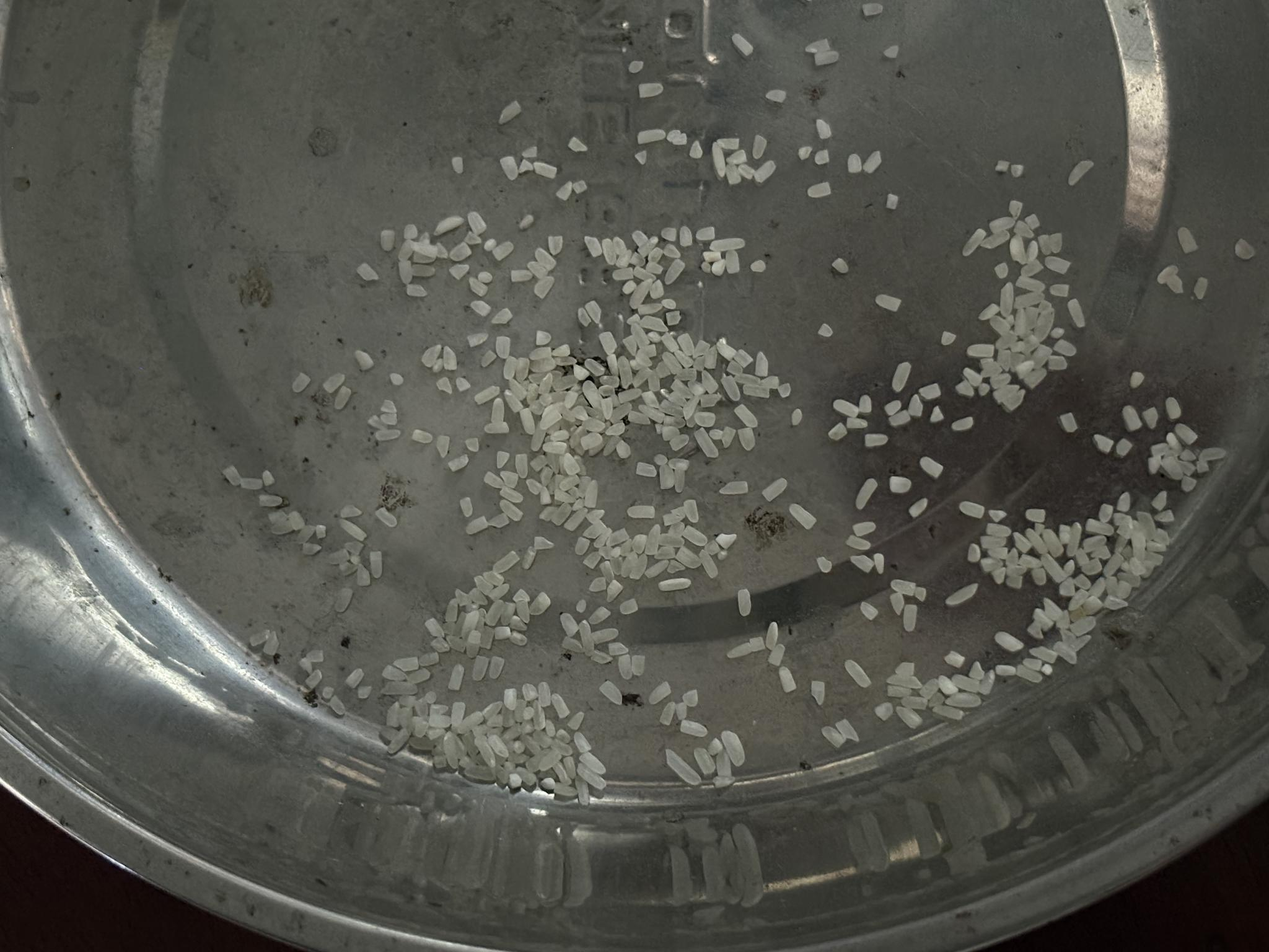Rice-th-y-nh: (663, 748, 702, 787), (1039, 552, 1069, 583), (577, 762, 607, 791), (844, 659, 872, 689), (1032, 307, 1055, 342), (788, 503, 817, 530), (946, 583, 979, 606), (1067, 159, 1095, 186), (694, 428, 719, 458), (855, 478, 878, 510), (962, 228, 987, 257), (1064, 522, 1084, 558), (582, 380, 604, 411), (629, 280, 652, 309), (338, 518, 367, 541), (1025, 528, 1049, 555), (895, 705, 922, 729), (579, 751, 606, 775), (693, 747, 716, 775), (932, 703, 965, 722), (675, 545, 701, 569), (387, 728, 411, 754), (492, 551, 519, 574), (1014, 290, 1045, 310), (643, 525, 663, 556), (1042, 529, 1064, 557), (734, 404, 758, 429), (835, 719, 860, 743), (1053, 641, 1078, 665), (434, 215, 464, 235), (821, 725, 847, 748), (648, 681, 672, 705), (599, 681, 623, 705), (499, 499, 524, 522), (762, 478, 787, 501), (664, 258, 686, 284), (639, 403, 665, 425), (1121, 405, 1143, 431), (458, 711, 484, 733), (892, 362, 911, 392), (721, 375, 742, 402), (1015, 664, 1043, 684), (698, 551, 718, 579), (564, 508, 588, 531), (550, 502, 573, 526), (609, 402, 633, 425), (1003, 389, 1027, 412), (1029, 645, 1058, 664), (1067, 299, 1086, 328), (1030, 344, 1052, 369), (1174, 423, 1199, 445), (1161, 456, 1183, 481), (1070, 615, 1096, 636), (639, 315, 669, 333), (485, 599, 505, 626), (1016, 275, 1046, 293), (1085, 518, 1115, 536), (988, 215, 1016, 234), (534, 247, 557, 270), (754, 160, 777, 183), (538, 749, 561, 772), (1067, 589, 1090, 612), (605, 527, 630, 548), (1103, 553, 1124, 578), (645, 558, 670, 579), (994, 383, 1020, 403), (474, 385, 500, 405), (659, 399, 685, 419), (629, 554, 649, 580), (334, 587, 354, 613), (323, 372, 346, 394), (920, 456, 943, 478), (503, 390, 525, 413), (683, 526, 707, 547), (1023, 368, 1047, 389), (552, 761, 572, 786), (630, 323, 650, 348), (891, 578, 916, 598), (551, 693, 570, 719), (959, 500, 985, 519), (539, 390, 568, 407), (591, 627, 618, 645), (662, 352, 683, 375), (732, 33, 753, 56), (534, 275, 555, 298), (582, 520, 606, 540), (580, 431, 604, 451), (601, 238, 618, 266), (637, 128, 665, 145), (508, 377, 527, 402), (382, 664, 407, 683), (833, 399, 859, 417), (552, 374, 578, 392), (617, 386, 643, 404), (529, 426, 547, 452), (627, 504, 656, 520), (937, 675, 959, 696), (1033, 608, 1054, 630), (990, 315, 1011, 337), (515, 766, 538, 786), (375, 507, 398, 527), (560, 613, 580, 636), (766, 643, 786, 666), (449, 242, 472, 262), (542, 439, 569, 456), (1043, 597, 1062, 621), (549, 738, 573, 757), (676, 333, 695, 357), (584, 300, 603, 324), (441, 346, 459, 371), (683, 394, 701, 419), (581, 416, 606, 434), (742, 383, 770, 399), (394, 655, 420, 672), (716, 340, 737, 361), (492, 241, 514, 261), (583, 358, 606, 377), (671, 380, 694, 399), (598, 331, 617, 354), (467, 212, 486, 235), (588, 606, 611, 625), (605, 580, 624, 603), (584, 480, 599, 509), (1118, 570, 1142, 588), (850, 554, 874, 572), (985, 522, 1012, 538), (700, 370, 718, 394), (659, 702, 677, 726), (334, 386, 352, 410), (1053, 339, 1077, 357), (406, 668, 431, 685), (814, 49, 839, 66), (962, 367, 983, 387), (473, 575, 494, 595), (908, 498, 929, 518), (425, 618, 445, 639), (295, 524, 316, 544), (527, 260, 548, 280), (980, 534, 1008, 549), (1013, 532, 1032, 554), (584, 236, 603, 258), (481, 701, 503, 720), (466, 516, 488, 535), (658, 533, 684, 549), (450, 701, 466, 727), (561, 636, 584, 654), (989, 372, 1012, 390), (562, 453, 580, 476), (980, 556, 1003, 574), (683, 499, 700, 523), (622, 334, 639, 358), (724, 250, 741, 274), (397, 260, 414, 284), (1082, 535, 1107, 551), (258, 492, 283, 508), (354, 350, 374, 370), (805, 38, 830, 54), (638, 301, 663, 317), (1093, 434, 1114, 453), (593, 528, 612, 549), (1087, 577, 1106, 598), (573, 732, 592, 753), (603, 435, 622, 456), (978, 303, 999, 322), (345, 668, 364, 689), (468, 277, 489, 296), (328, 695, 347, 716), (292, 372, 311, 393), (488, 583, 510, 601), (357, 263, 379, 281), (889, 409, 911, 427), (693, 411, 716, 428), (1019, 553, 1042, 570), (500, 486, 523, 503), (488, 656, 505, 679), (495, 336, 512, 359), (889, 592, 906, 615), (428, 712, 451, 729), (484, 420, 510, 435), (374, 428, 400, 443), (845, 535, 871, 550), (627, 410, 651, 426), (533, 162, 557, 178), (500, 469, 520, 488), (669, 433, 689, 452), (446, 634, 466, 653), (673, 350, 694, 368), (448, 454, 469, 472), (445, 598, 460, 623), (411, 263, 436, 278), (654, 545, 676, 562), (538, 373, 554, 396), (515, 600, 531, 623), (562, 756, 578, 779), (703, 346, 719, 369), (487, 513, 510, 529), (633, 266, 656, 282), (398, 239, 414, 262), (808, 182, 831, 198), (583, 551, 602, 570), (567, 711, 586, 730), (1016, 360, 1035, 379), (859, 602, 879, 620), (484, 471, 504, 489), (1059, 577, 1077, 597), (716, 136, 740, 151), (661, 332, 679, 352), (305, 669, 323, 689), (503, 356, 518, 380), (556, 181, 574, 201), (559, 474, 580, 491), (470, 300, 491, 317), (449, 263, 470, 280), (1003, 548, 1020, 569), (636, 461, 657, 478), (491, 308, 512, 325), (815, 119, 832, 140), (554, 489, 576, 505), (411, 429, 433, 445), (612, 266, 634, 282), (699, 392, 721, 408), (502, 688, 518, 710), (853, 521, 876, 536), (589, 575, 608, 593), (734, 349, 753, 367), (530, 453, 548, 472), (641, 390, 660, 408), (288, 511, 305, 531), (547, 235, 564, 255), (716, 533, 737, 549), (678, 226, 694, 247), (987, 545, 1009, 560), (482, 571, 504, 586), (572, 364, 590, 382), (436, 377, 454, 395), (692, 340, 710, 358), (631, 230, 649, 248), (570, 405, 589, 422), (455, 588, 472, 607), (509, 615, 528, 632), (574, 536, 591, 555), (529, 346, 552, 360), (696, 226, 716, 242), (599, 374, 620, 389), (599, 398, 614, 419), (608, 642, 629, 657), (1049, 283, 1070, 298), (1022, 656, 1043, 671), (1025, 509, 1046, 524), (301, 541, 322, 556), (647, 371, 661, 393), (1145, 540, 1167, 554), (884, 399, 902, 416), (1180, 475, 1198, 492), (687, 380, 706, 396), (586, 508, 605, 524), (1073, 574, 1092, 590), (495, 449, 510, 469), (606, 354, 619, 377), (605, 422, 626, 436), (533, 536, 554, 550), (480, 350, 497, 367), (526, 478, 543, 495), (663, 244, 681, 260), (738, 164, 756, 180), (991, 566, 1007, 584), (816, 556, 832, 574), (845, 416, 867, 429), (761, 375, 780, 390), (649, 280, 664, 299), (1075, 548, 1090, 567), (569, 137, 588, 152), (459, 497, 473, 517), (429, 702, 449, 716), (548, 429, 569, 442), (873, 553, 886, 574), (535, 329, 551, 346), (832, 258, 849, 274), (494, 625, 512, 640), (552, 344, 571, 358), (988, 509, 1007, 523), (645, 262, 664, 276), (540, 467, 553, 487), (665, 310, 681, 326), (621, 279, 637, 295), (299, 657, 314, 674), (529, 372, 548, 385), (675, 702, 688, 721), (544, 719, 557, 738), (357, 684, 373, 699), (465, 436, 480, 452), (1025, 213, 1040, 229), (702, 250, 721, 262), (455, 377, 470, 392), (261, 470, 275, 486), (777, 382, 791, 398), (693, 356, 706, 373), (541, 777, 556, 791), (660, 298, 676, 311)
